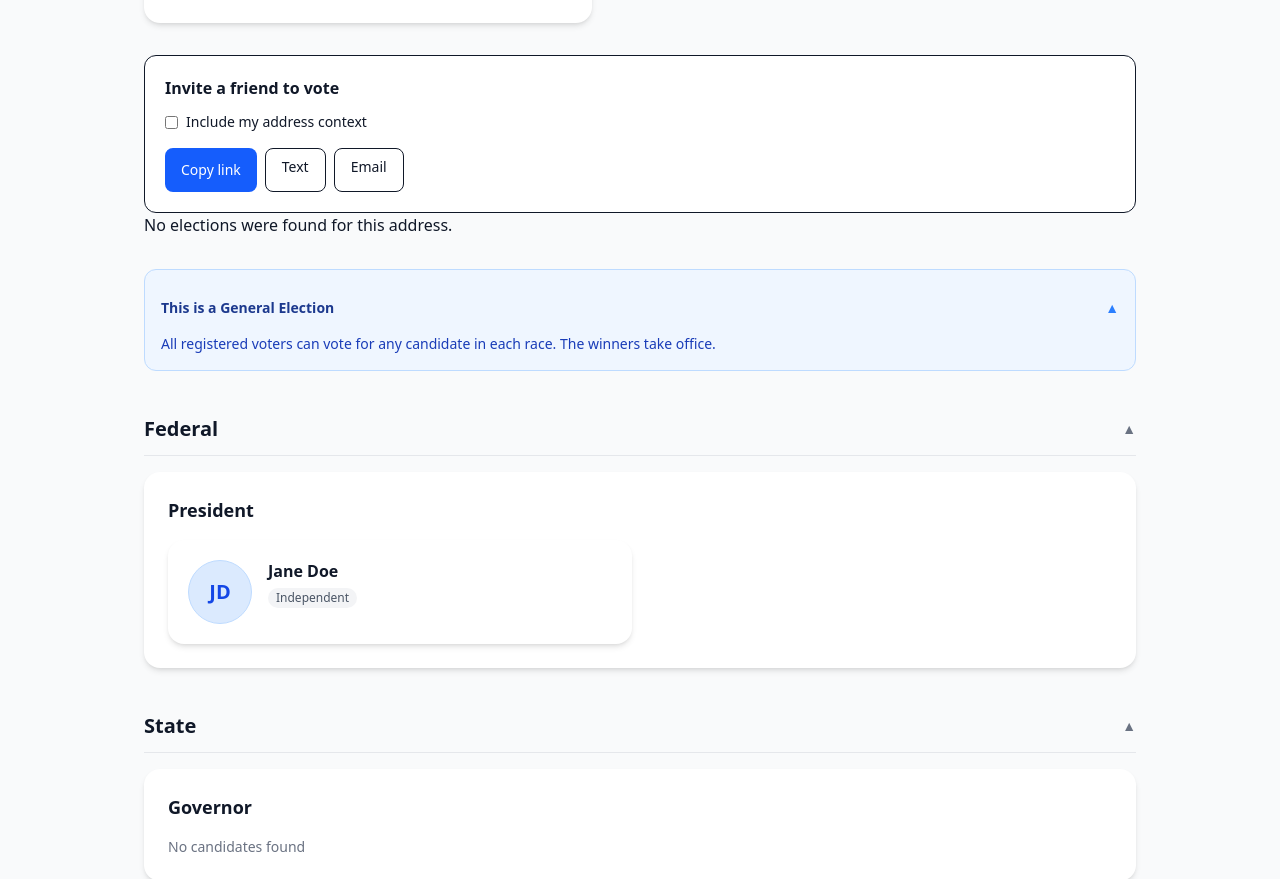
Test: BallotPage › collapses and expands a section on toggle
(page scrolled)
expect the heading "Jane Doe" is shown: met, box top-left (268, 560), bottom-right (338, 582)
Step 1. Click the button with aria-label "Toggle Federal section" → [181, 428], box top-left (144, 403), bottom-right (1136, 456)
(page scrolled)
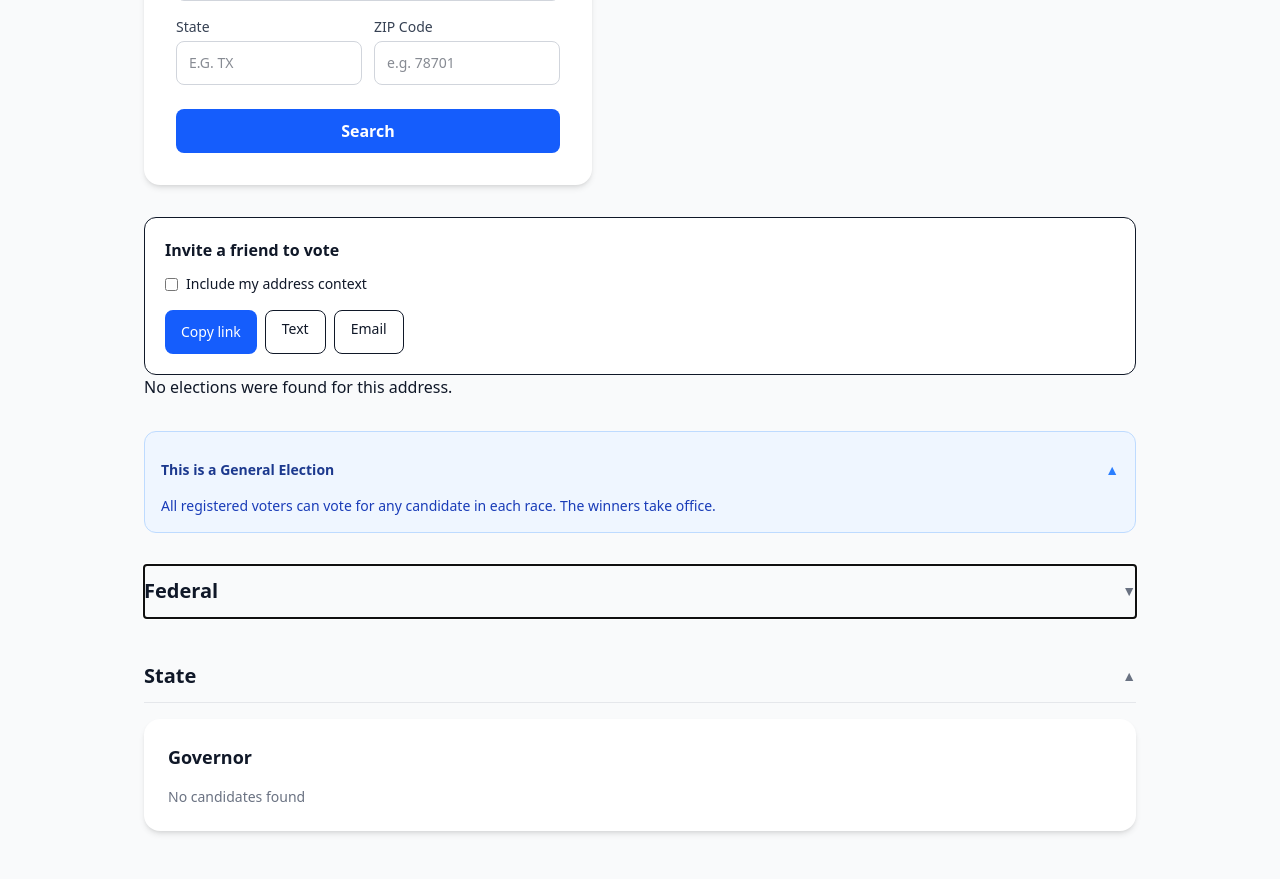
expect the heading "Jane Doe" is gone: met
Step 2. Click the button with aria-label "Toggle Federal section" → [181, 590], box top-left (144, 565), bottom-right (1136, 618)
(page scrolled)
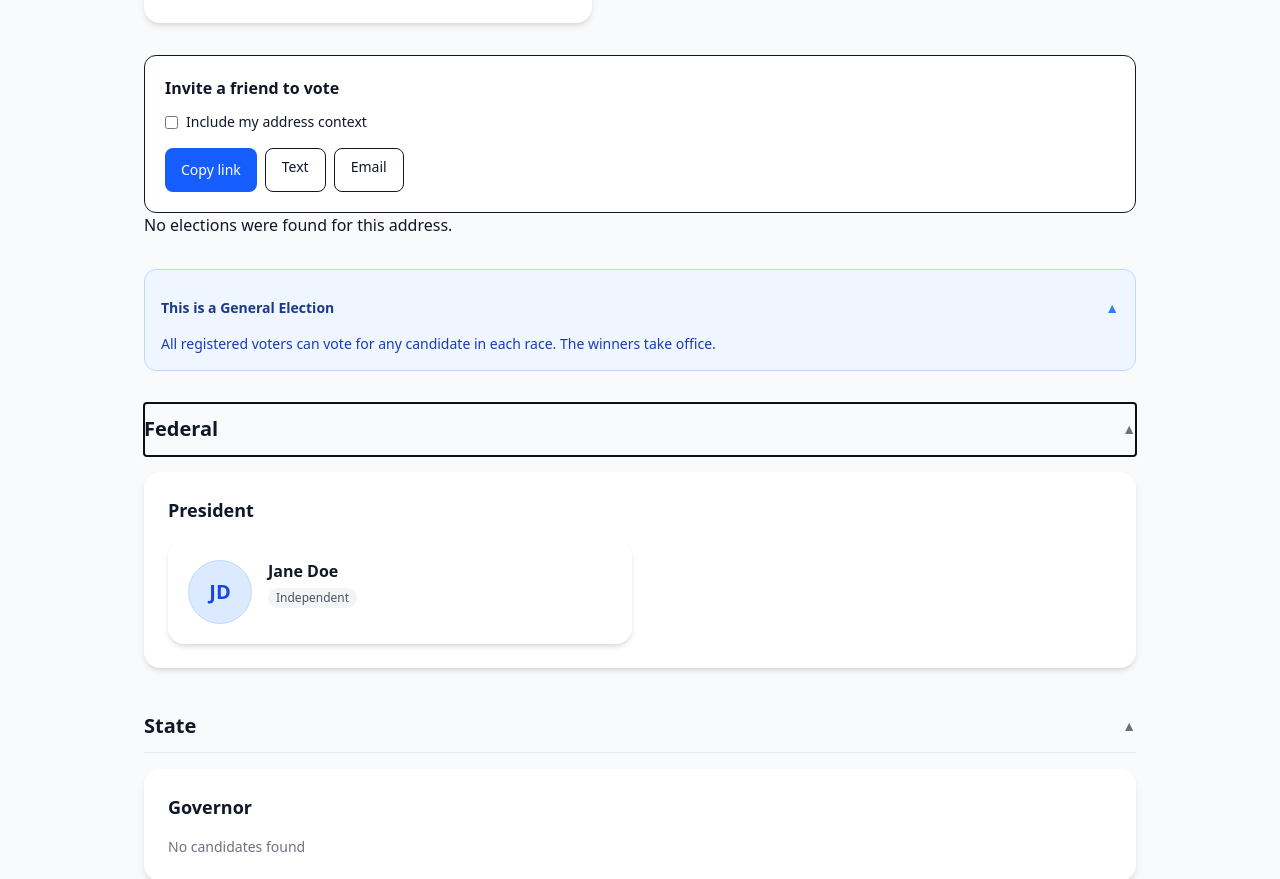
expect the heading "Jane Doe" is shown: met, box top-left (268, 560), bottom-right (338, 582)
